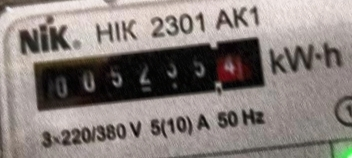0: (51, 72, 68, 98), (79, 67, 96, 93)
2: (133, 58, 151, 86)
3: (160, 53, 179, 79)
4: (217, 47, 238, 78)
5: (187, 49, 206, 79), (106, 62, 122, 88)
screen: (17, 26, 273, 120)
